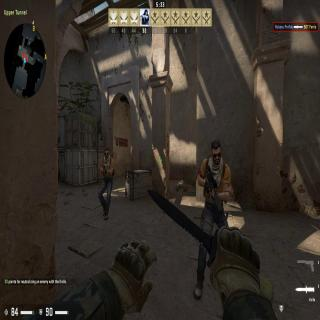T-Body: (194, 136, 230, 291), (97, 145, 115, 220)
T-Head: (211, 137, 223, 166), (104, 148, 110, 159)
